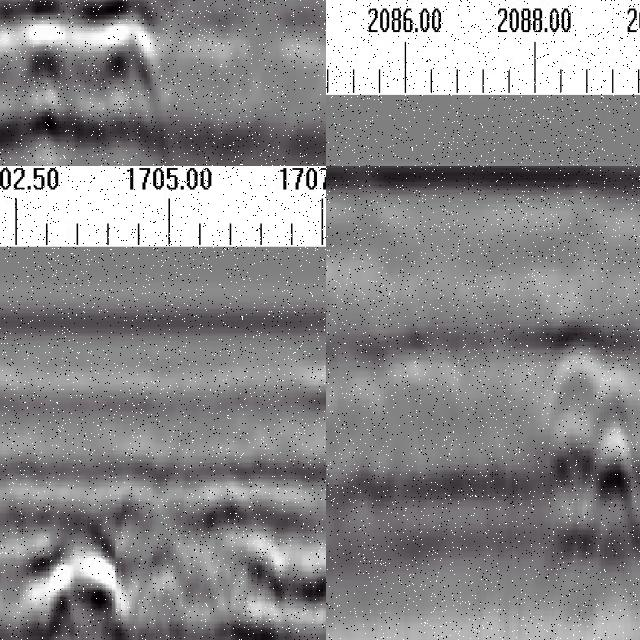loose: (22, 485, 327, 640), (539, 290, 640, 582), (1, 1, 166, 167)
